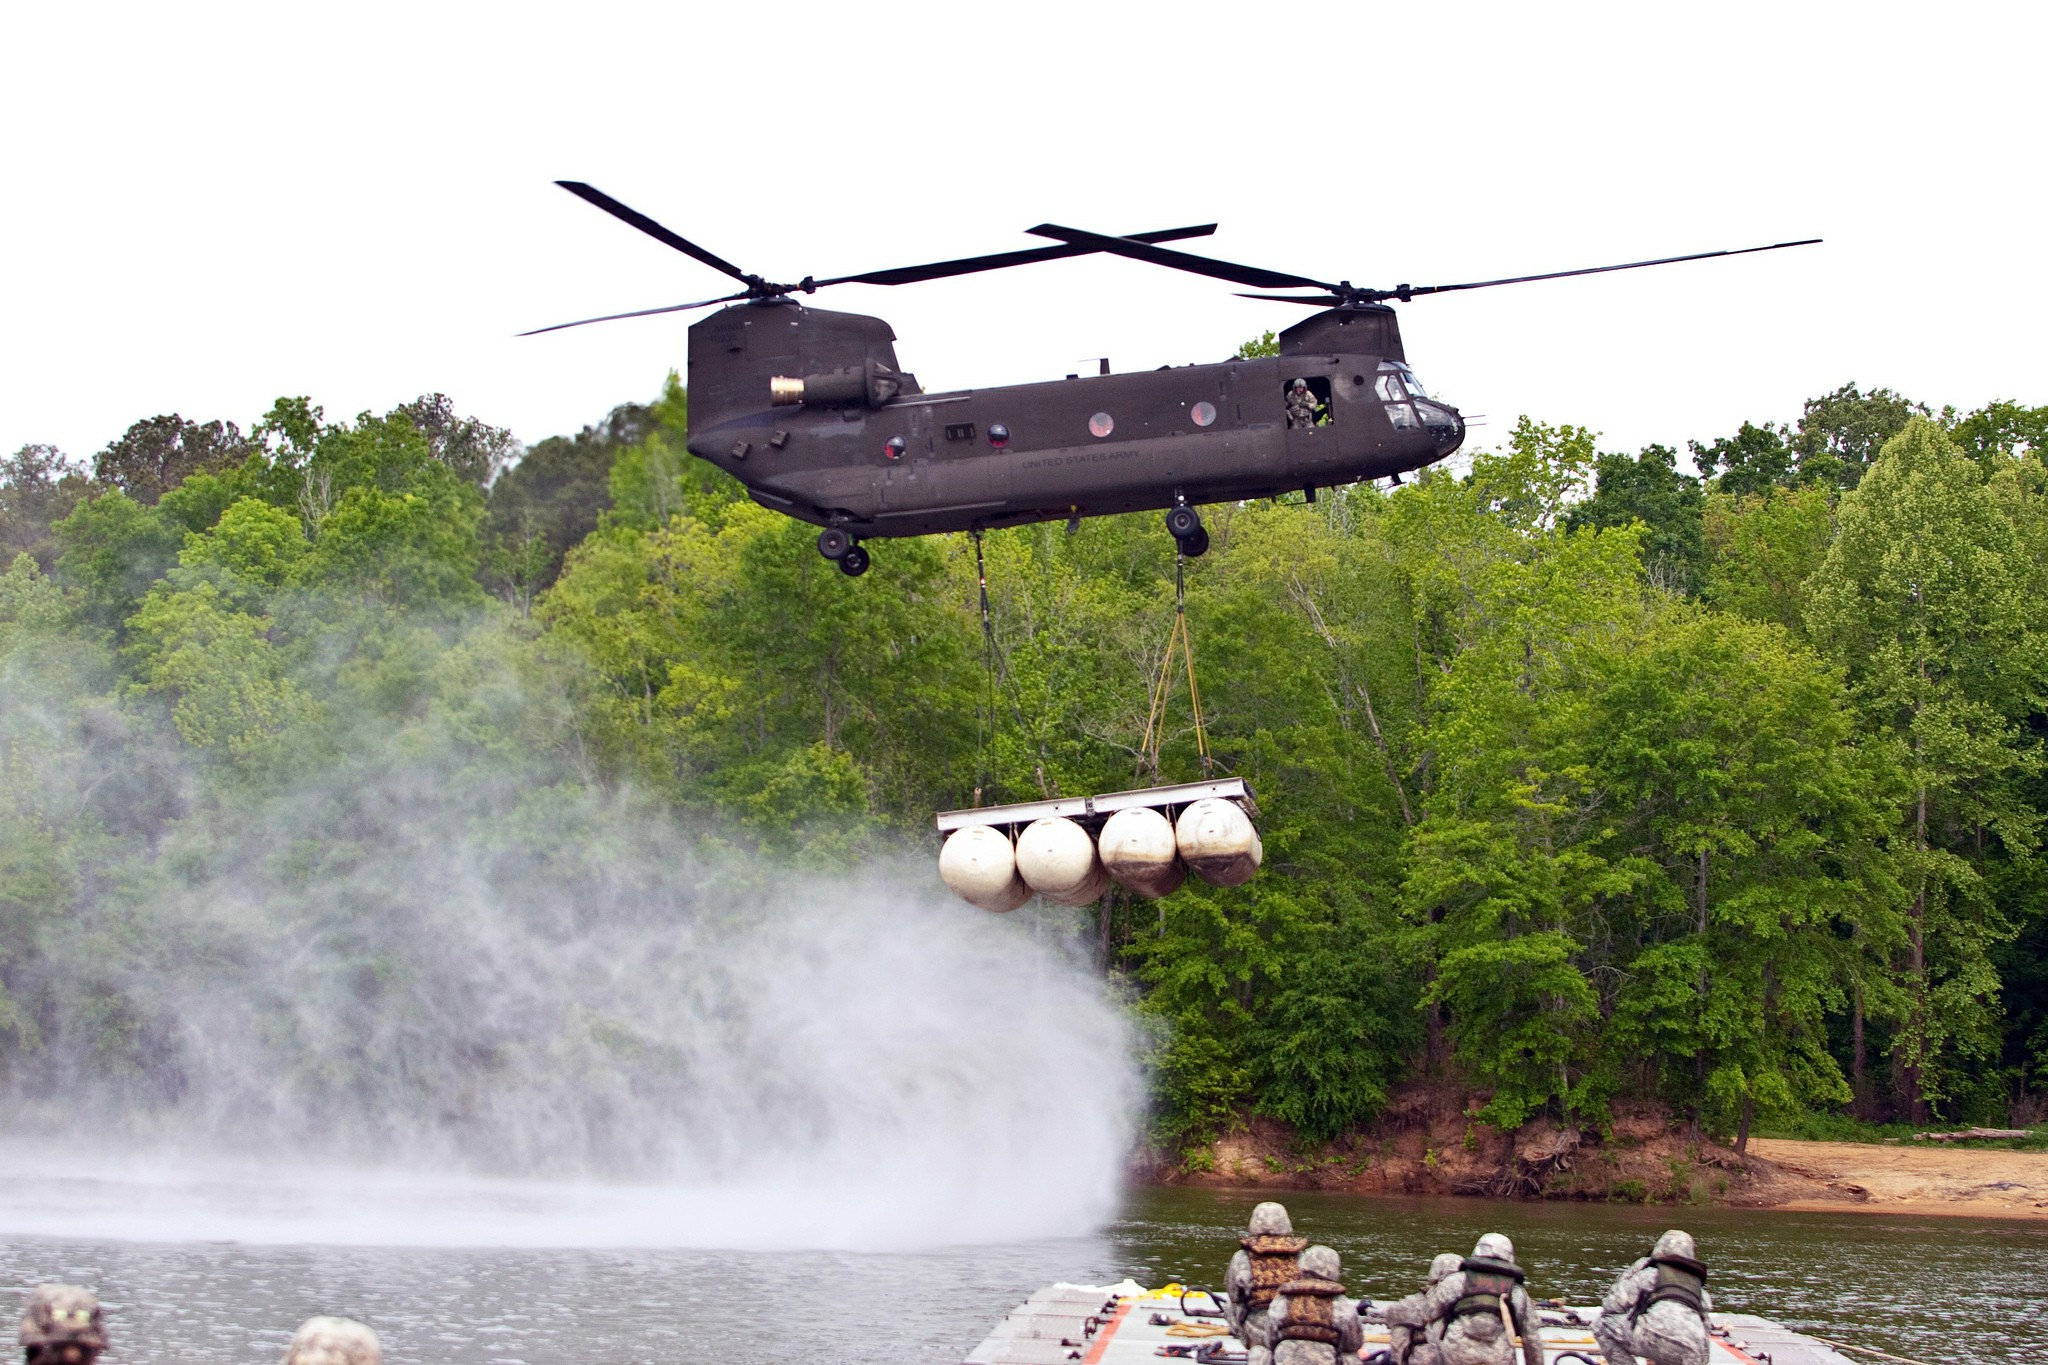chinook: (545, 184, 1818, 565)
